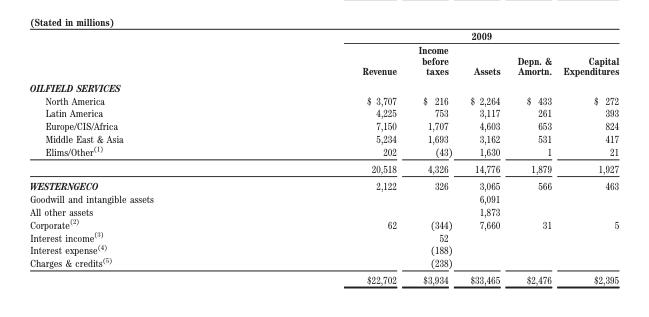table: (29, 29, 618, 285)
table column: (29, 29, 257, 285), (257, 29, 406, 285), (556, 29, 618, 285), (406, 29, 460, 285), (460, 29, 508, 285), (508, 29, 556, 285)
table column header: (29, 29, 618, 78)
table projected row header: (29, 78, 618, 93)
table row: (29, 42, 618, 78), (29, 144, 618, 160), (29, 160, 618, 176), (29, 255, 618, 271), (29, 78, 618, 93), (29, 176, 618, 191), (29, 271, 618, 285), (29, 29, 618, 42), (29, 93, 618, 106), (29, 106, 618, 119), (29, 119, 618, 132), (29, 191, 618, 204), (29, 216, 618, 229), (29, 229, 618, 242), (29, 242, 618, 255), (29, 132, 618, 144), (29, 204, 618, 216)
table spanning cell: (257, 29, 618, 42)
